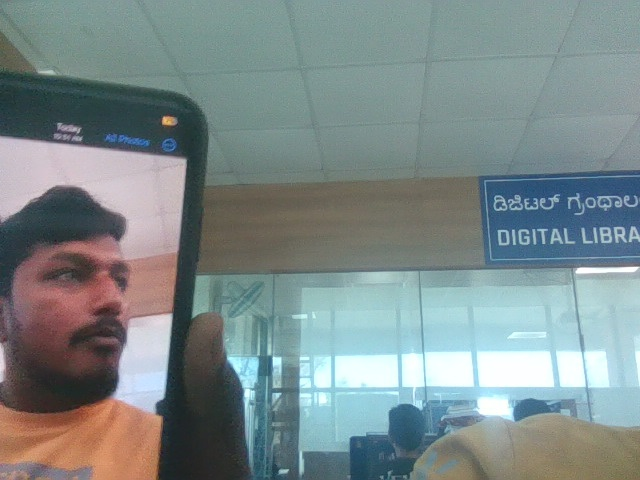fake: (0, 145, 183, 405)
